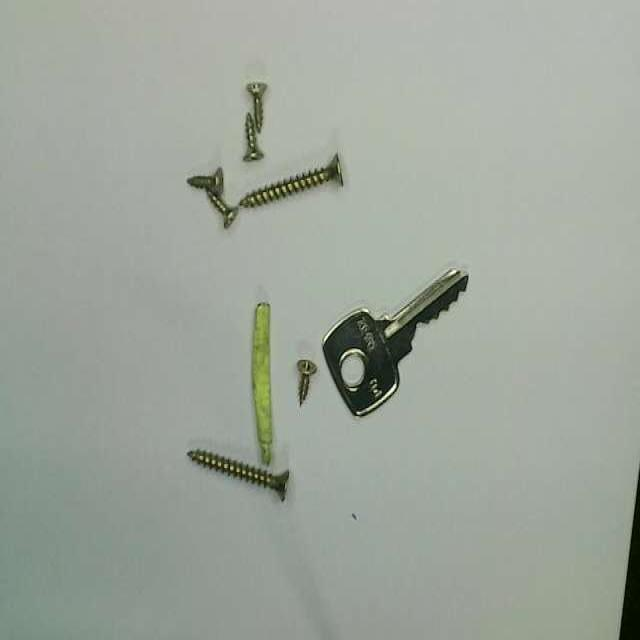Parafuso: (242, 152, 345, 205), (190, 452, 289, 500), (208, 194, 240, 231), (189, 167, 224, 195), (247, 83, 267, 131), (243, 114, 263, 161), (299, 360, 317, 404)
